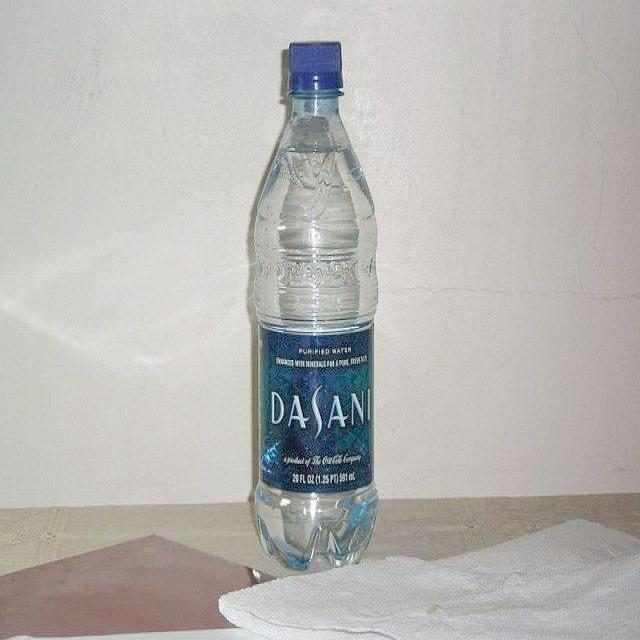bottle: (254, 41, 380, 572)
